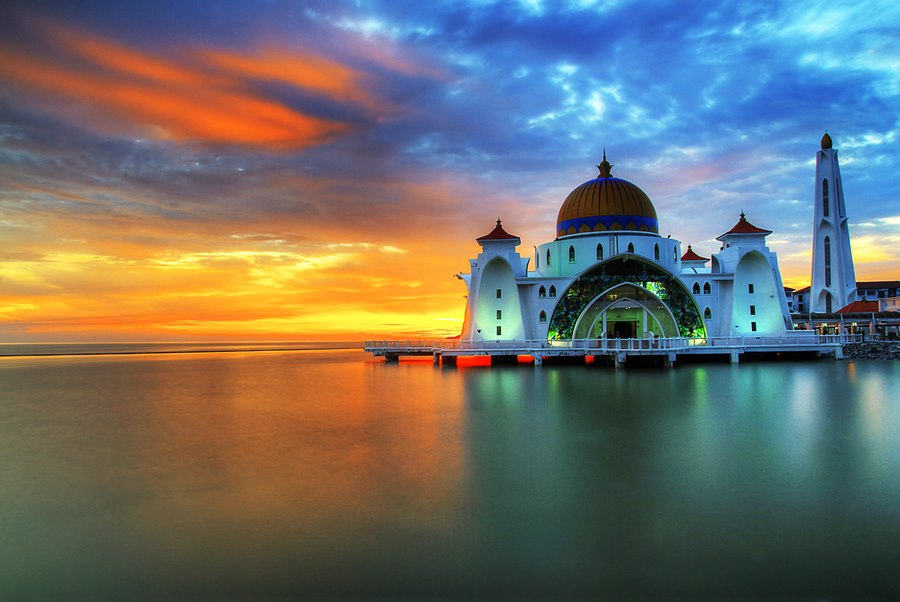Mosque: (420, 131, 850, 359)
